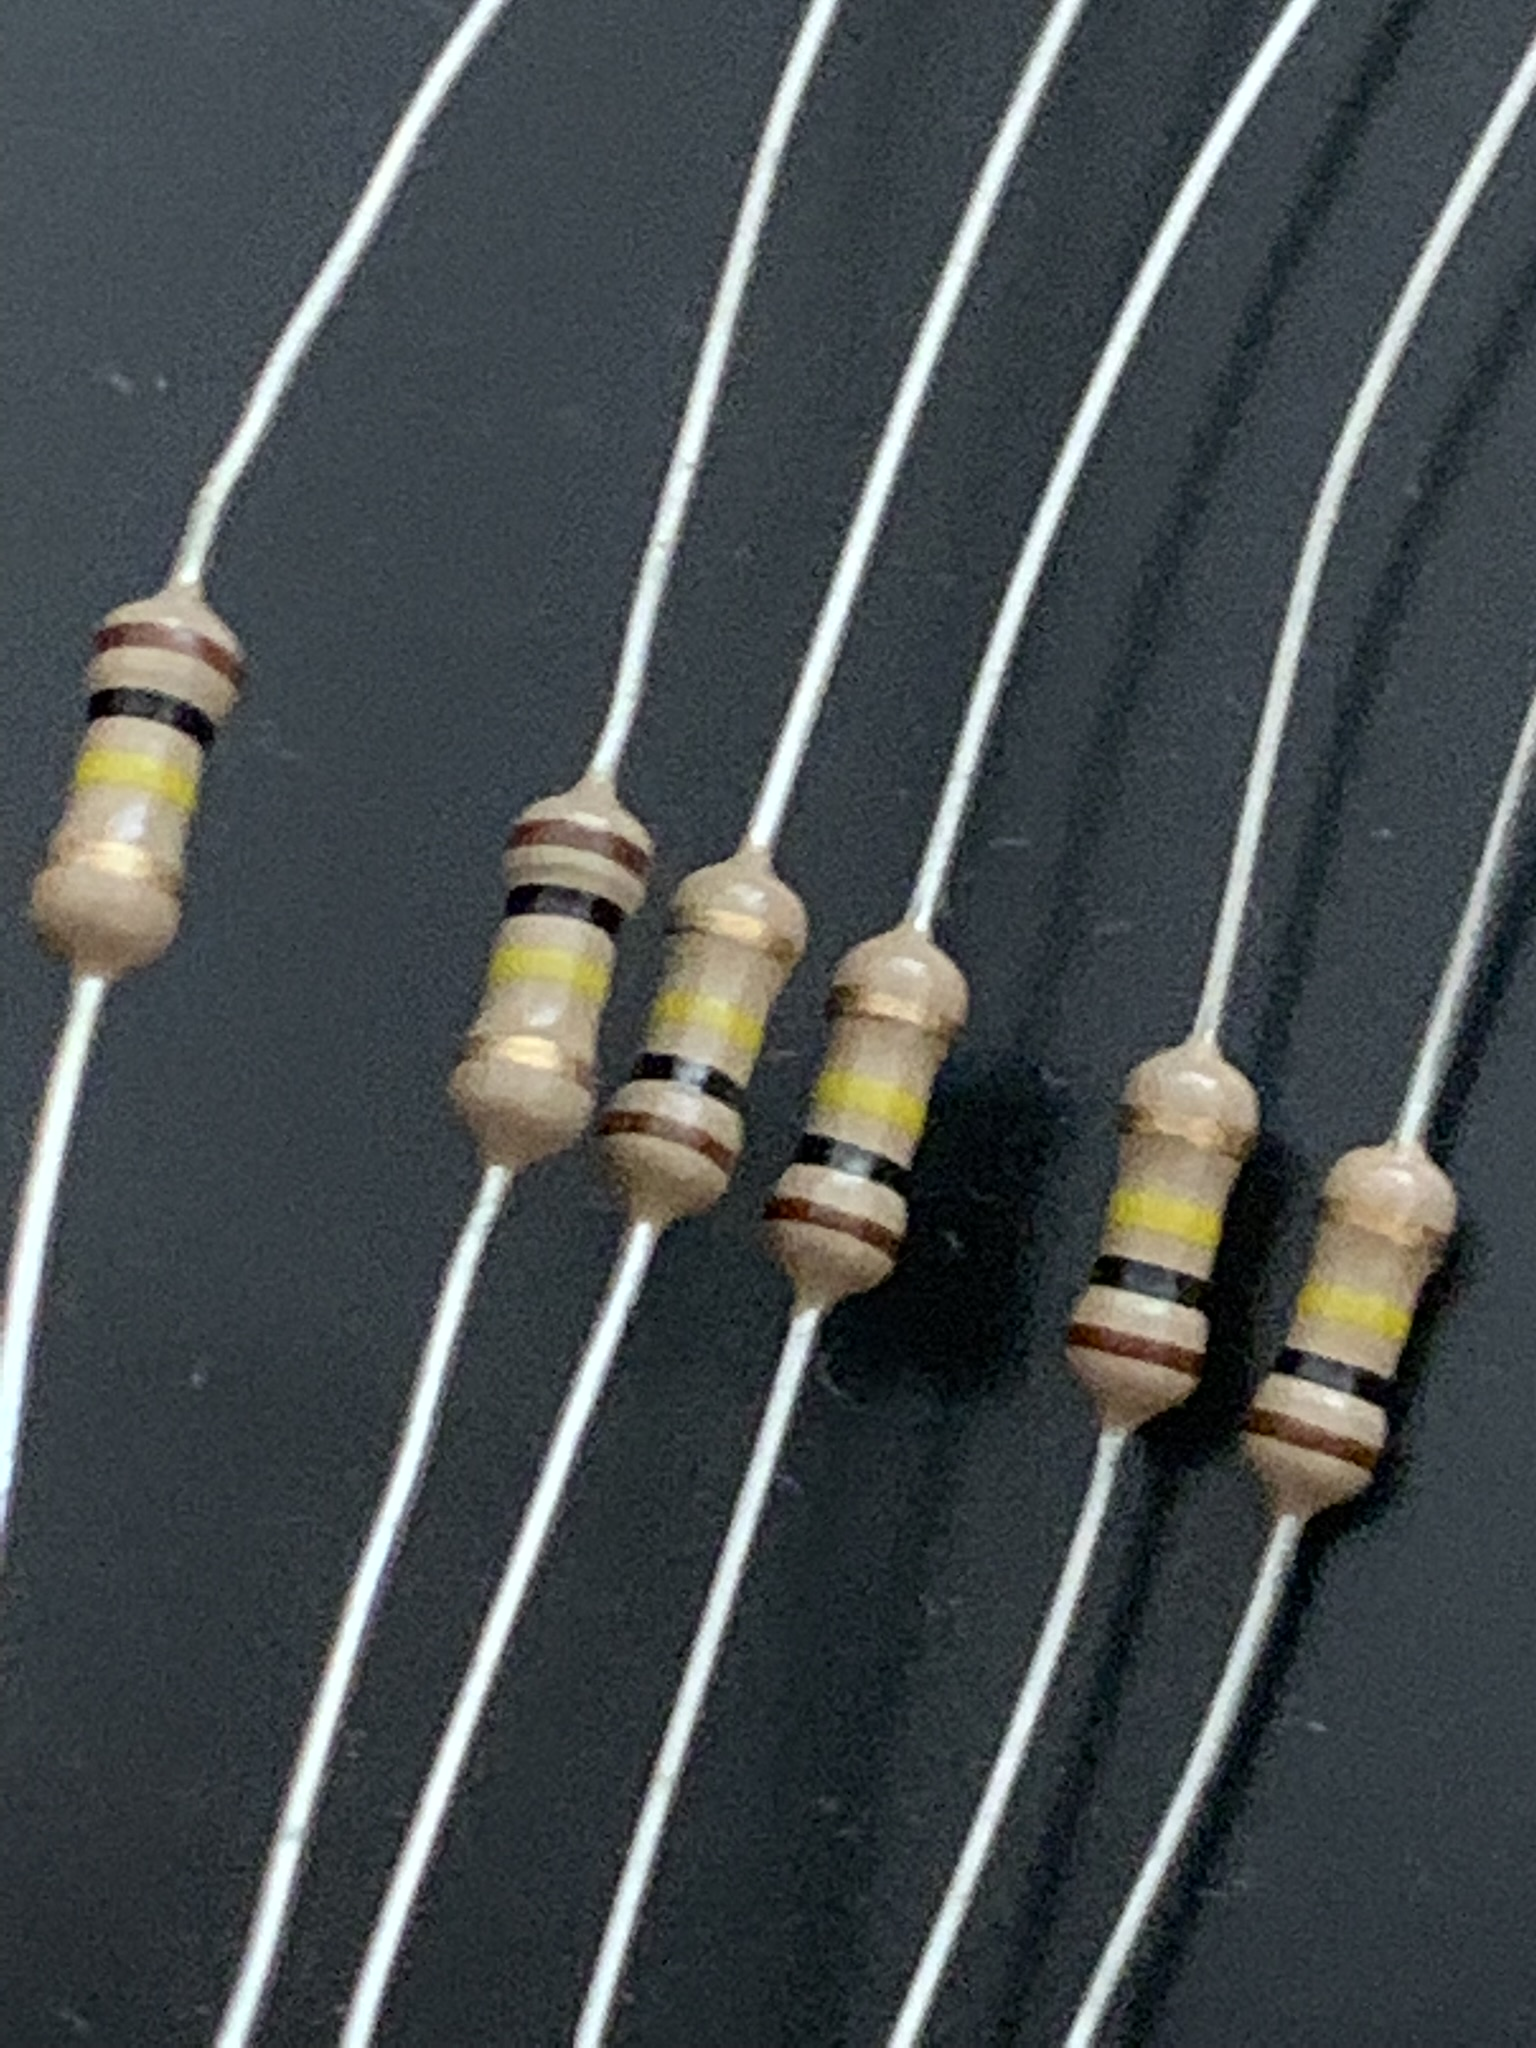resistor_thd: (32, 593, 250, 964), (1244, 1148, 1462, 1503), (449, 792, 657, 1155), (599, 864, 812, 1205), (1062, 1061, 1260, 1422), (762, 943, 970, 1282)
